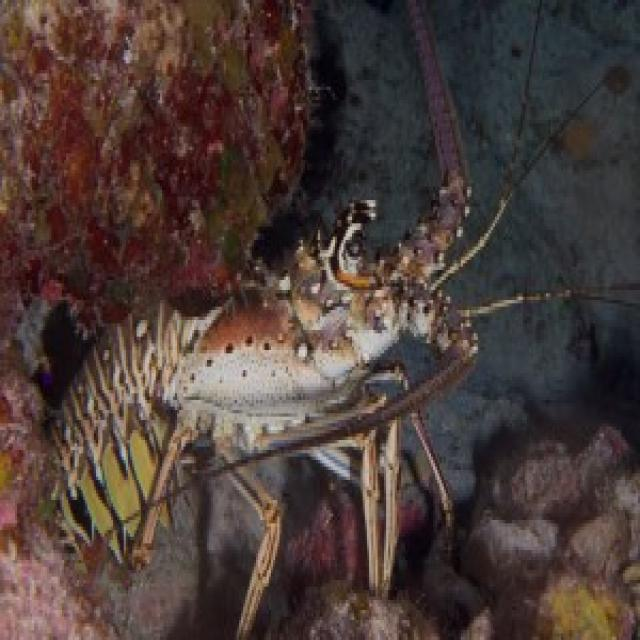lobsters: (0, 46, 596, 628)
